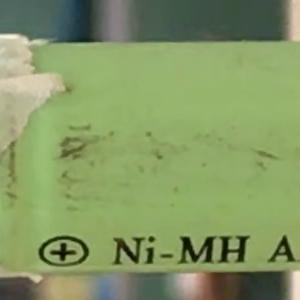keyword: (103, 226, 248, 275)
